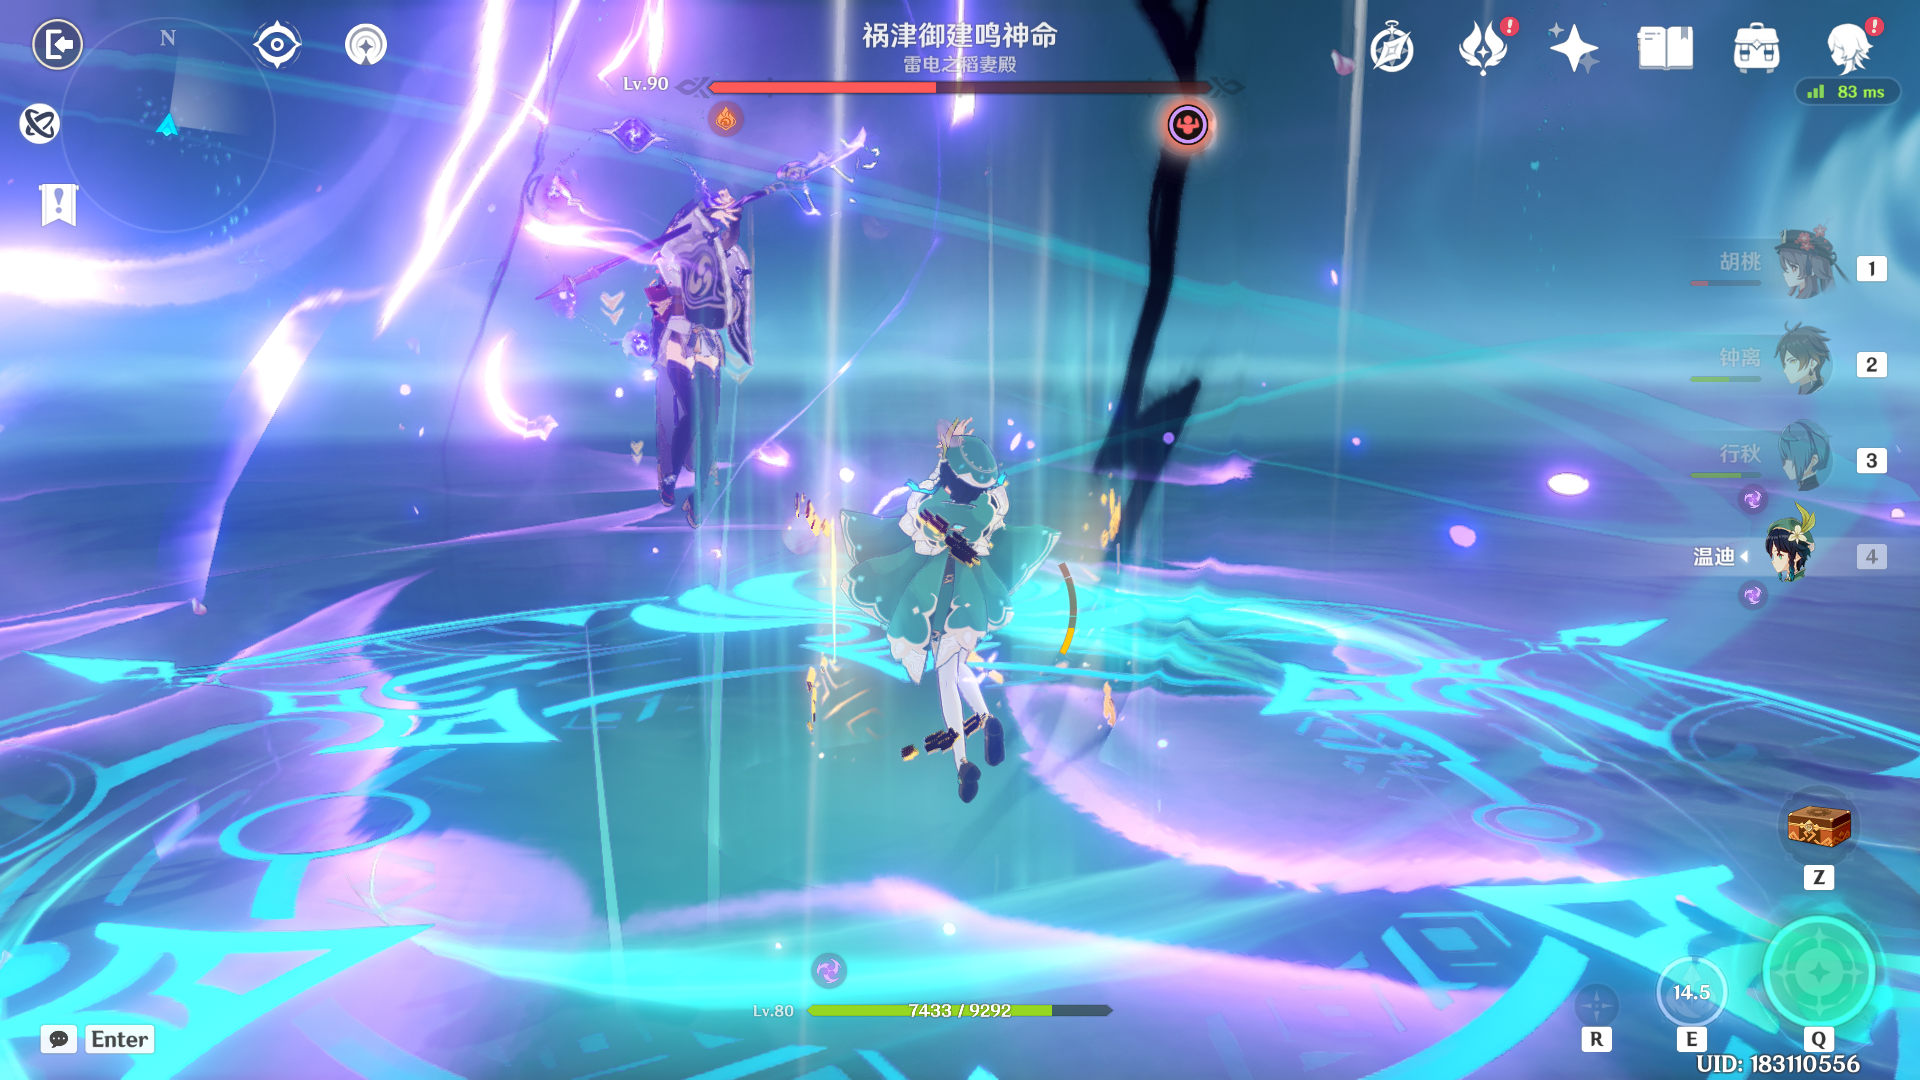character: (791, 373, 1097, 828), (556, 116, 804, 580)
